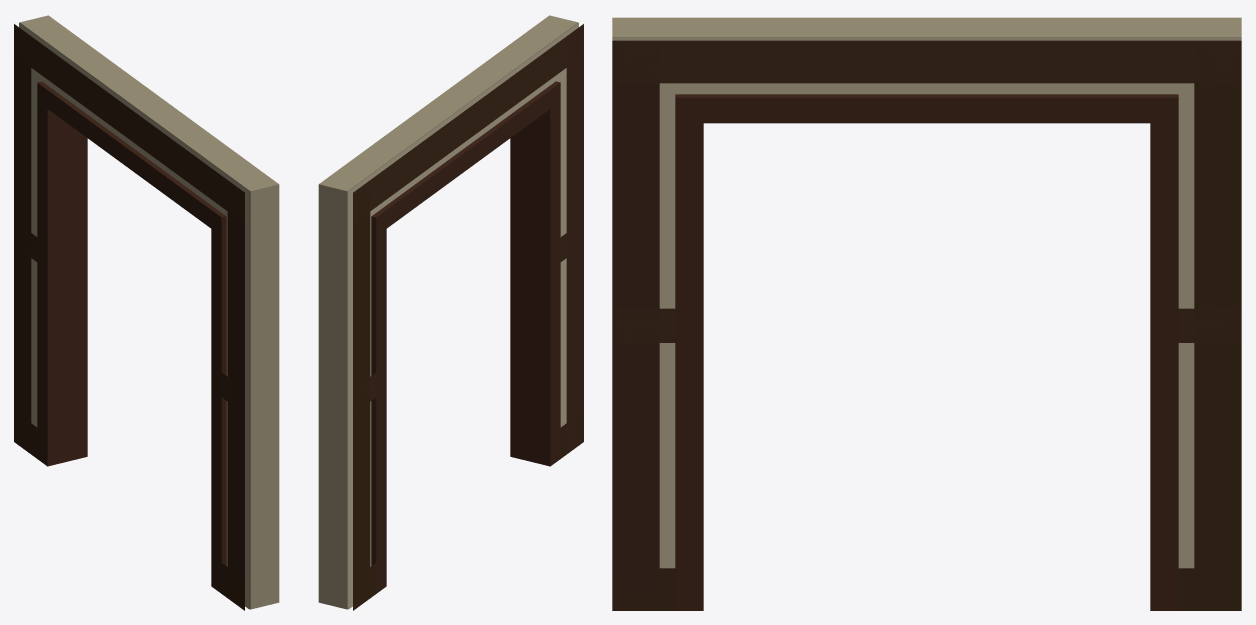
Rendered from wall-halftimber-doorway.glb.
The picture shows the model from 3 angles, left to right: view 1: azimuth 30°, elevation 25°; view 2: azimuth 150°, elevation 25°; view 3: azimuth 270°, elevation 25°; orthographic projection. The views are drawn at different scales.
Parts seen in each view (by area): view 1: wall-halftimber-doorway; view 2: wall-halftimber-doorway; view 3: wall-halftimber-doorway.
Part boxes in pixels (x1=…): wall-halftimber-doorway: x1=14, y1=15, x2=279, y2=610; wall-halftimber-doorway: x1=318, y1=15, x2=583, y2=610; wall-halftimber-doorway: x1=612, y1=17, x2=1241, y2=610.
Bounding box in the file's own units: 0.1 × 1 × 1.
